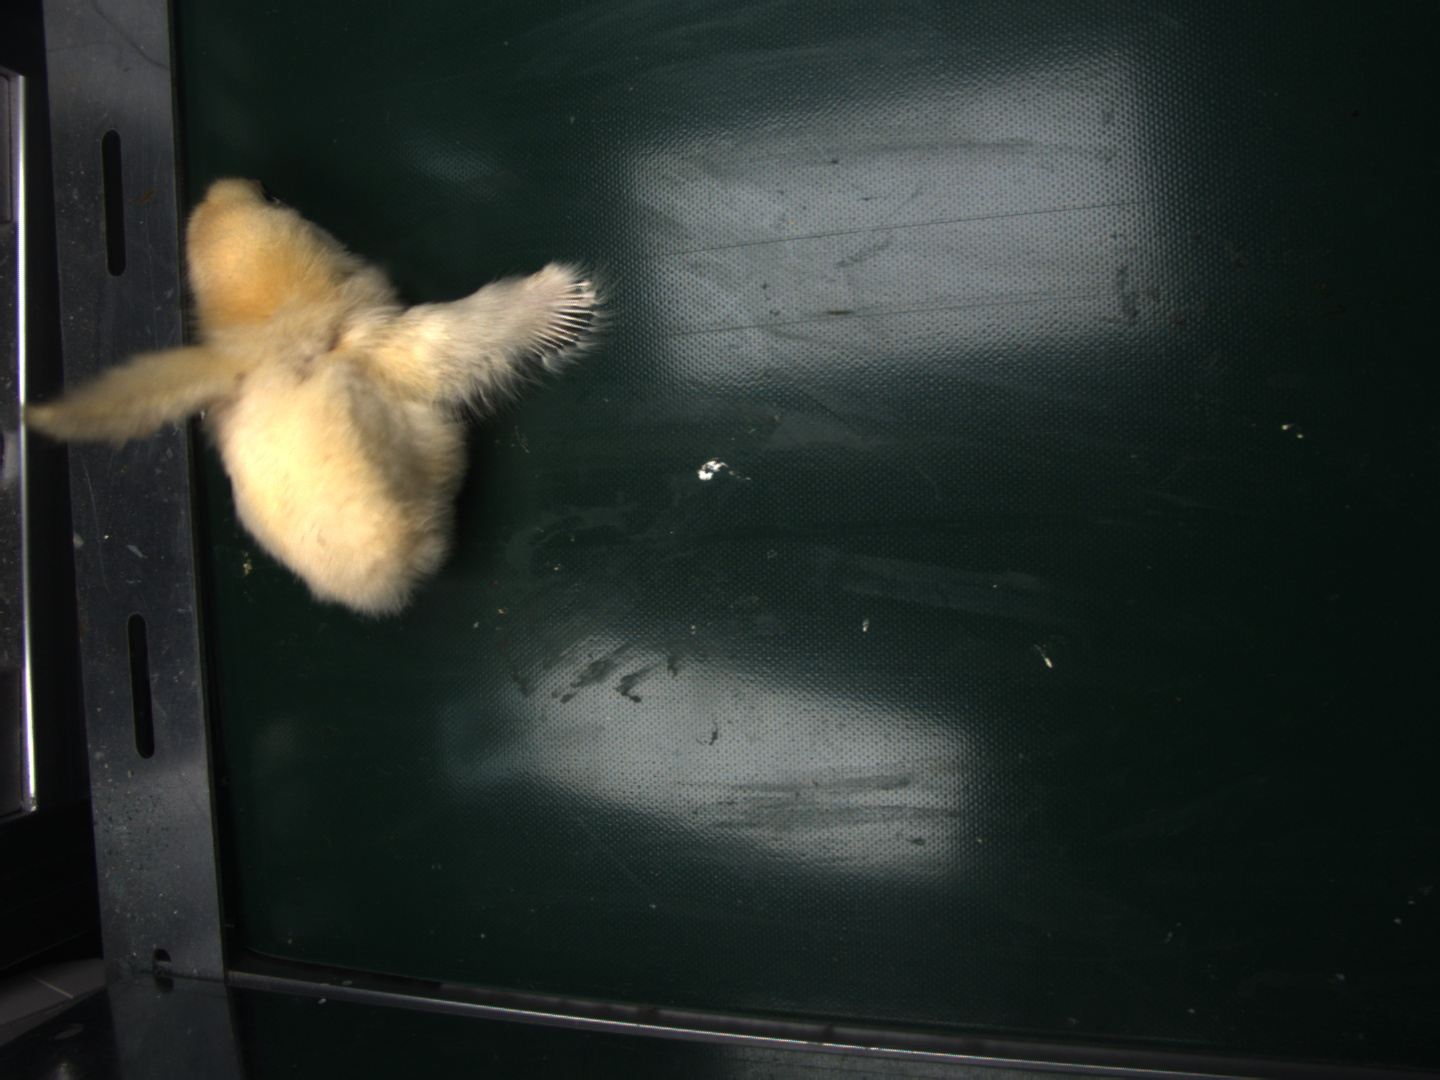male: (535, 277, 604, 358)
